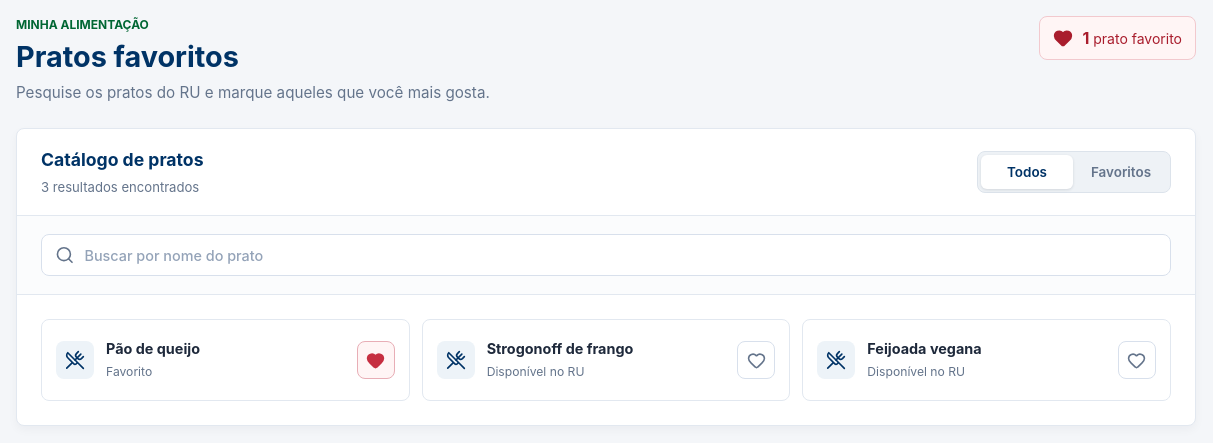
FavoritosClient › pesquisa pratos ignorando acentos
Type "pao" into the search field named "Pesquisar prato" at (621, 255), box [84,245,1157,266]
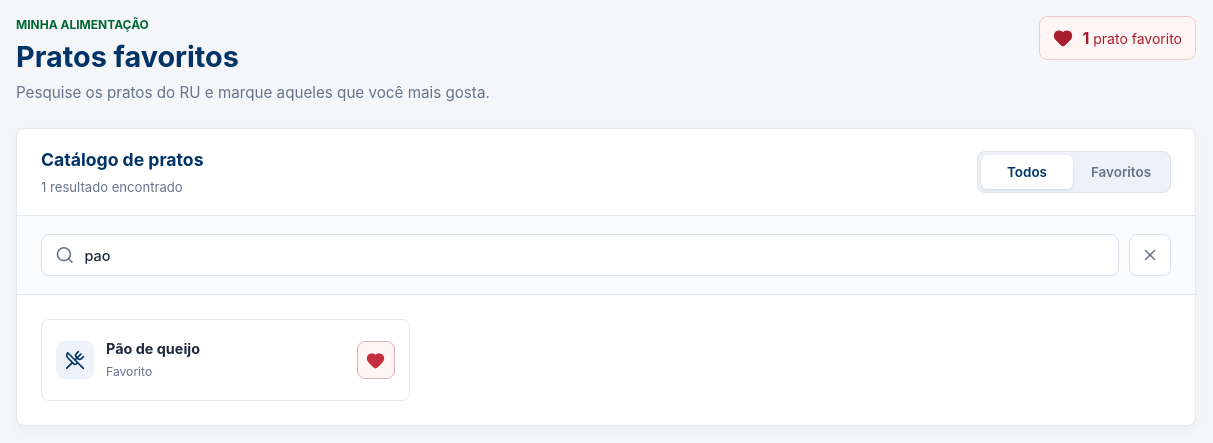
Expected: the heading "Pão de queijo" is shown, [106,340,200,357]
Now the heading "Strogonoff de frango" is gone
Now the text "1 resultado encontrado" is shown, box [41,178,204,197]
